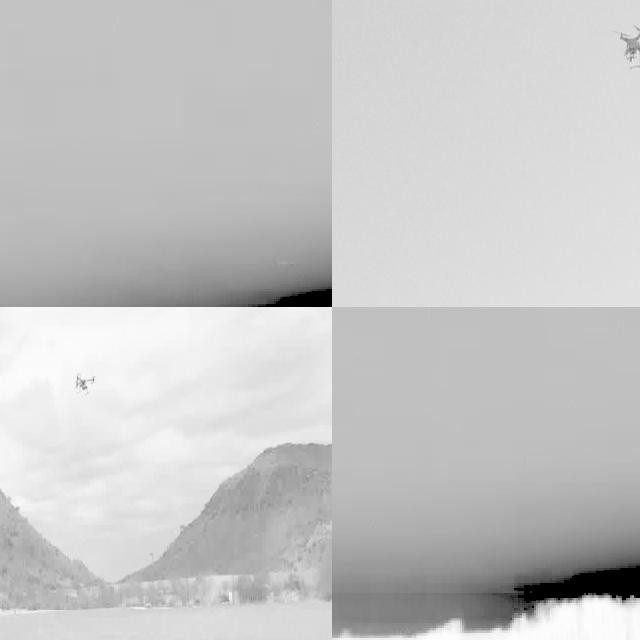0: (273, 252, 305, 282)
drone: (615, 21, 640, 79), (74, 367, 100, 397)
